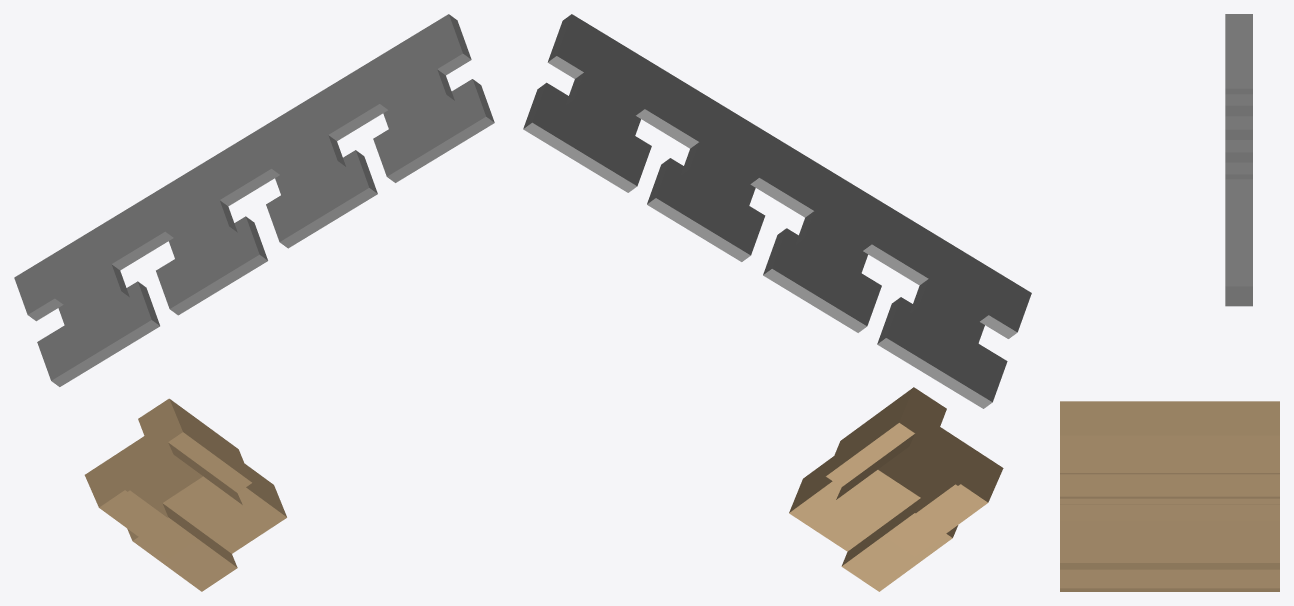
3 renders of one model, left to right at view 1: azimuth 30°, elevation 25°; view 2: azimuth 150°, elevation 25°; view 3: azimuth 270°, elevation 25°, orthographic. The views are drawn at different scales.
Visible parts, largest first — view 1: 0_1_3_2_1_2_0; view 2: 0_1_3_2_1_2_0; view 3: 0_1_3_2_1_2_0.
Part boxes in pixels (x1,y1,x2,y2): 0_1_3_2_1_2_0: (14,14,494,591); 0_1_3_2_1_2_0: (523,14,1031,591); 0_1_3_2_1_2_0: (1060,14,1279,591).
Bounding box in the file's own units: 94.19 × 87.39 × 24.
